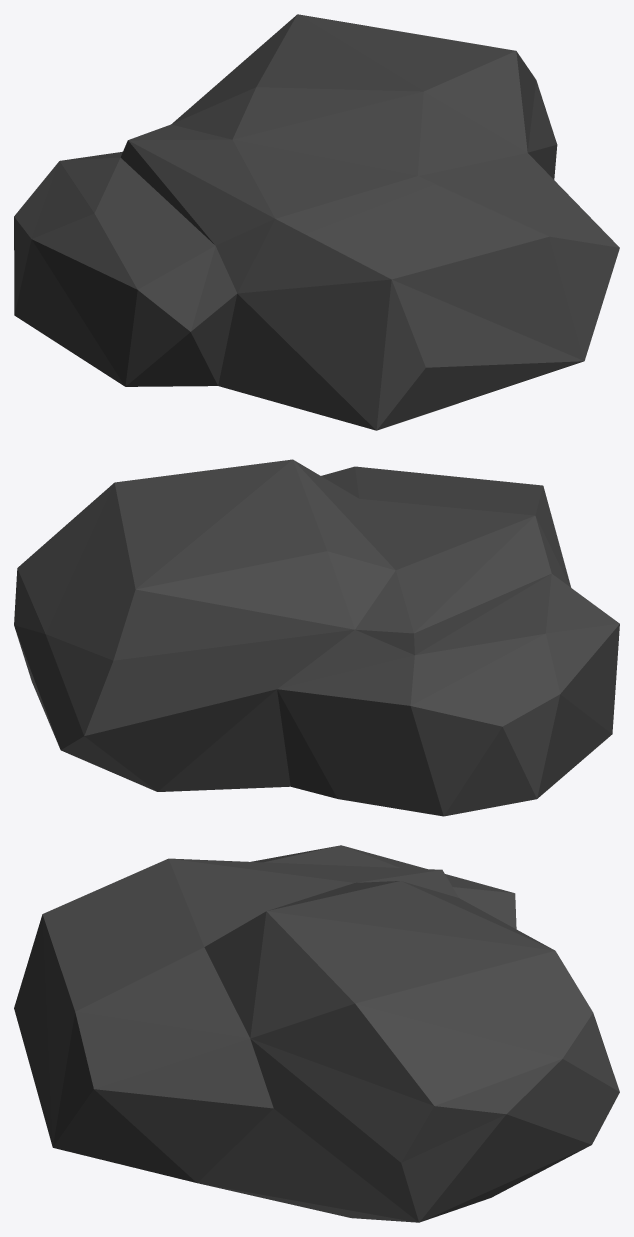
Rendered from rock__rock1_natural_dark.glb.
3 renders of one model, top to bottom at view 1: azimuth 30°, elevation 25°; view 2: azimuth 150°, elevation 25°; view 3: azimuth 270°, elevation 25°, orthographic. The views are drawn at different scales.
Parts seen in each view (by area): view 1: rock1.natural.dark; view 2: rock1.natural.dark; view 3: rock1.natural.dark.
Part boxes in pixels (x1,y1,x2,y2): rock1.natural.dark: [14, 14, 619, 430]; rock1.natural.dark: [14, 459, 619, 816]; rock1.natural.dark: [14, 845, 619, 1222].
Bounding box in the file's own units: 3.01 × 1.28 × 2.94.
Materials: 1 (1 with a texture image).
